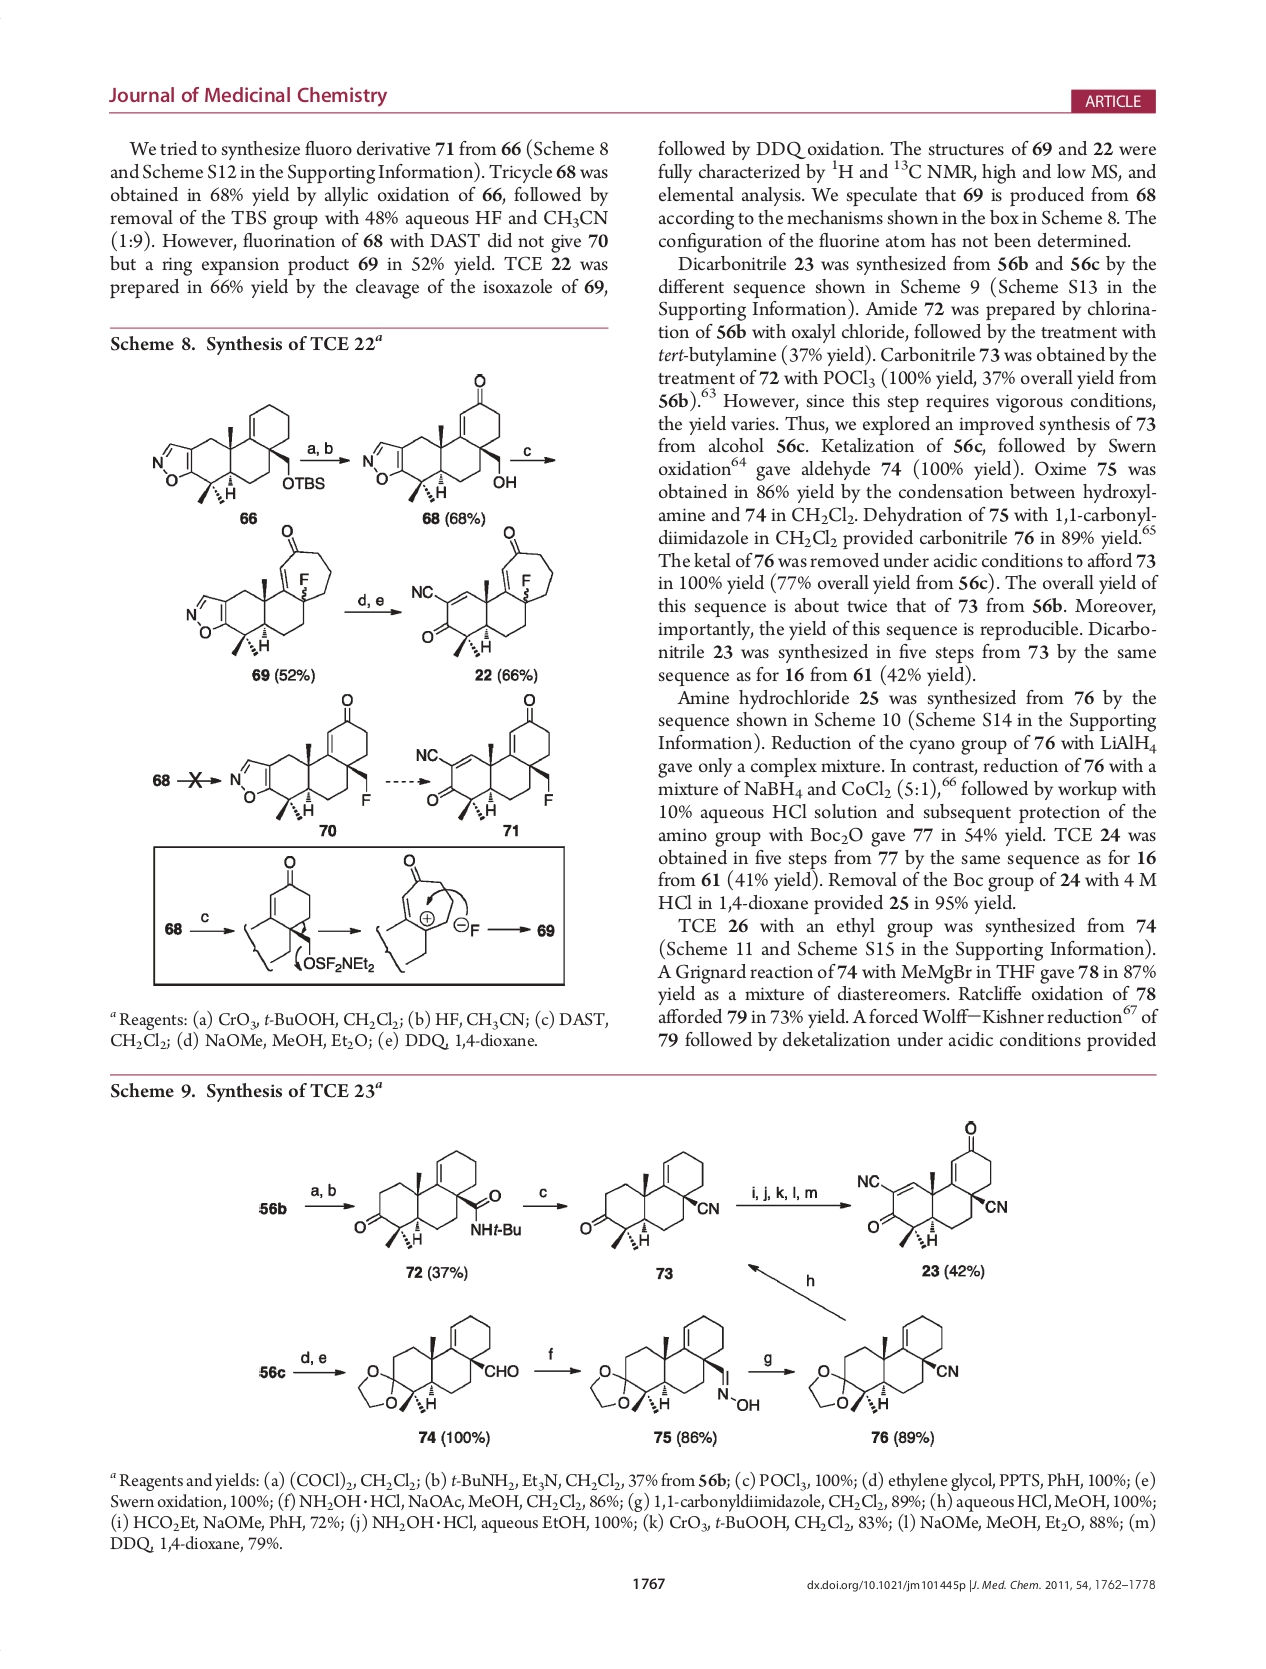exist_molecular: (360, 370, 519, 504), (407, 523, 556, 661), (182, 523, 332, 660), (856, 1118, 1009, 1251), (229, 692, 376, 822), (150, 398, 327, 505), (352, 1140, 523, 1251), (412, 692, 556, 823), (588, 1310, 763, 1418), (354, 1313, 523, 1414), (247, 852, 376, 977), (807, 1313, 963, 1415), (578, 1146, 723, 1255), (384, 852, 480, 965)
